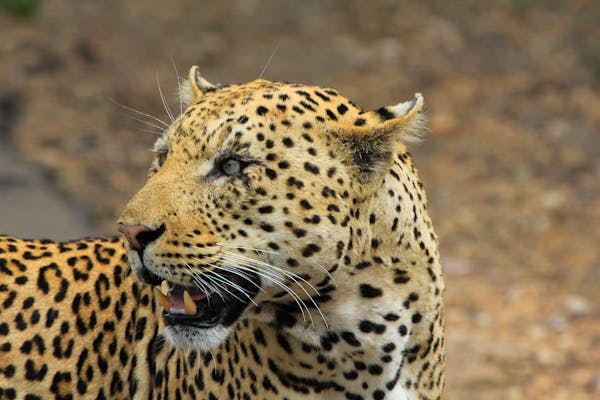Leopard: (1, 64, 455, 400)
